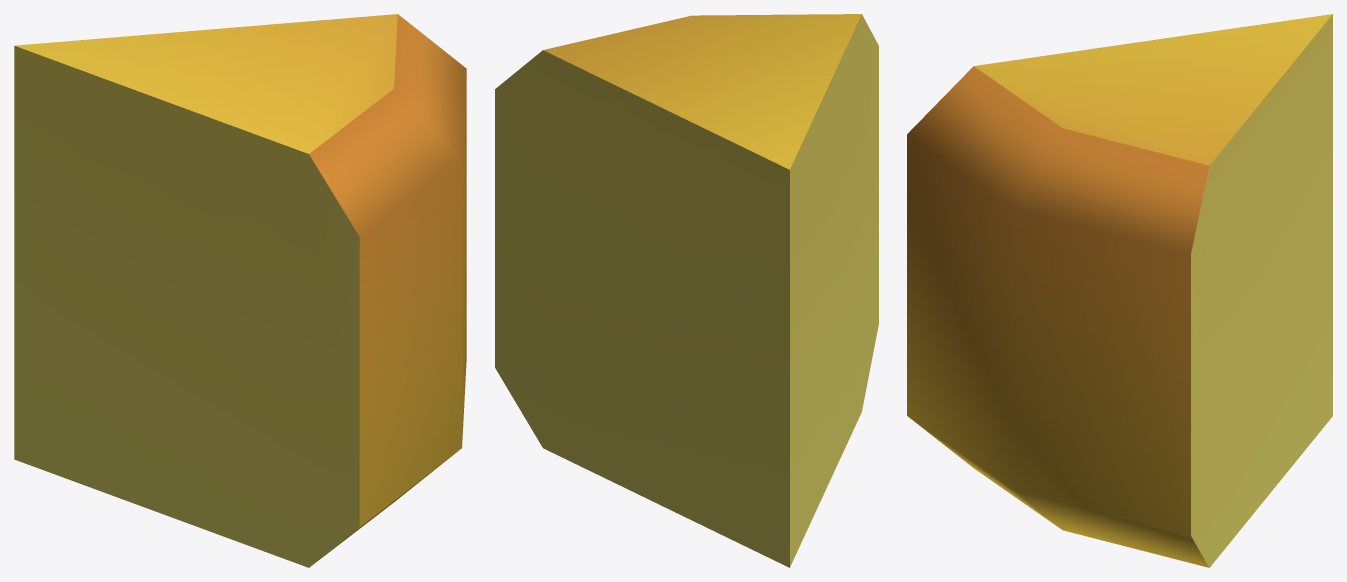
File: cheese_slice_yellow.fbx
3 views of the same model, side by side, from view 1: azimuth 30°, elevation 25°; view 2: azimuth 150°, elevation 25°; view 3: azimuth 270°, elevation 25° (orthographic). The views are drawn at different scales.
Parts seen in each view (by area): view 1: cheese_slice_yellow; view 2: cheese_slice_yellow; view 3: cheese_slice_yellow.
Part boxes in pixels (x1,y1,x2,y2): cheese_slice_yellow: [14, 14, 466, 567]; cheese_slice_yellow: [495, 14, 878, 567]; cheese_slice_yellow: [907, 14, 1332, 567].
Size of the model in its own units: 16.97 by 17.68 by 16.97.
